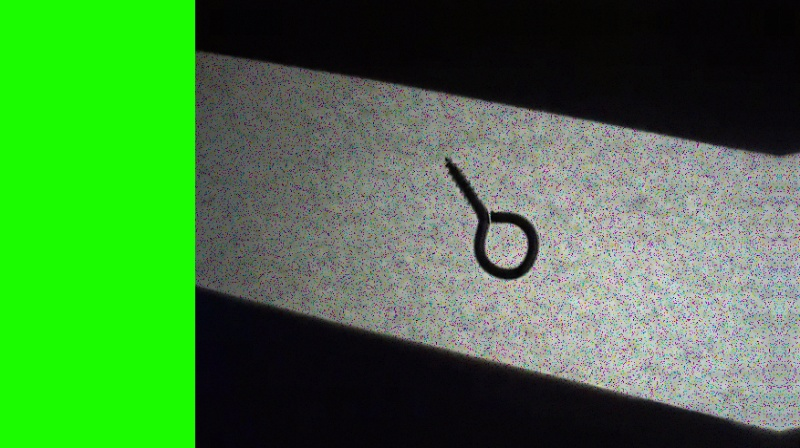O001: (440, 152, 540, 282)
